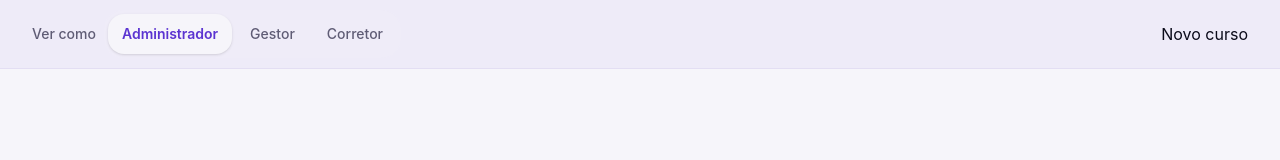
Test: BarraDaLealMidia › troca o Ver como e esconde as ações fora de Administrador
Expected: the button "Novo curso" is shown, [1161,22,1248,46]
Step 1. Click the radio button labelled "Corretor" → (355, 34), box [313,14,397,54]
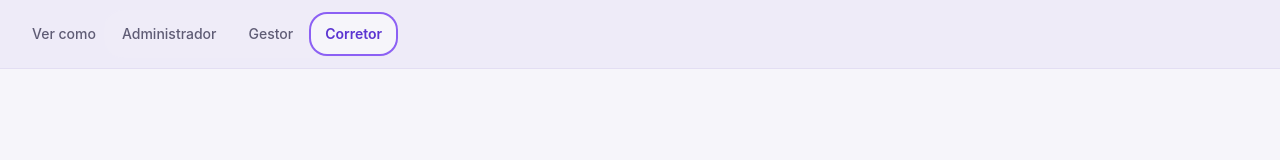
Now the button "Novo curso" is gone
